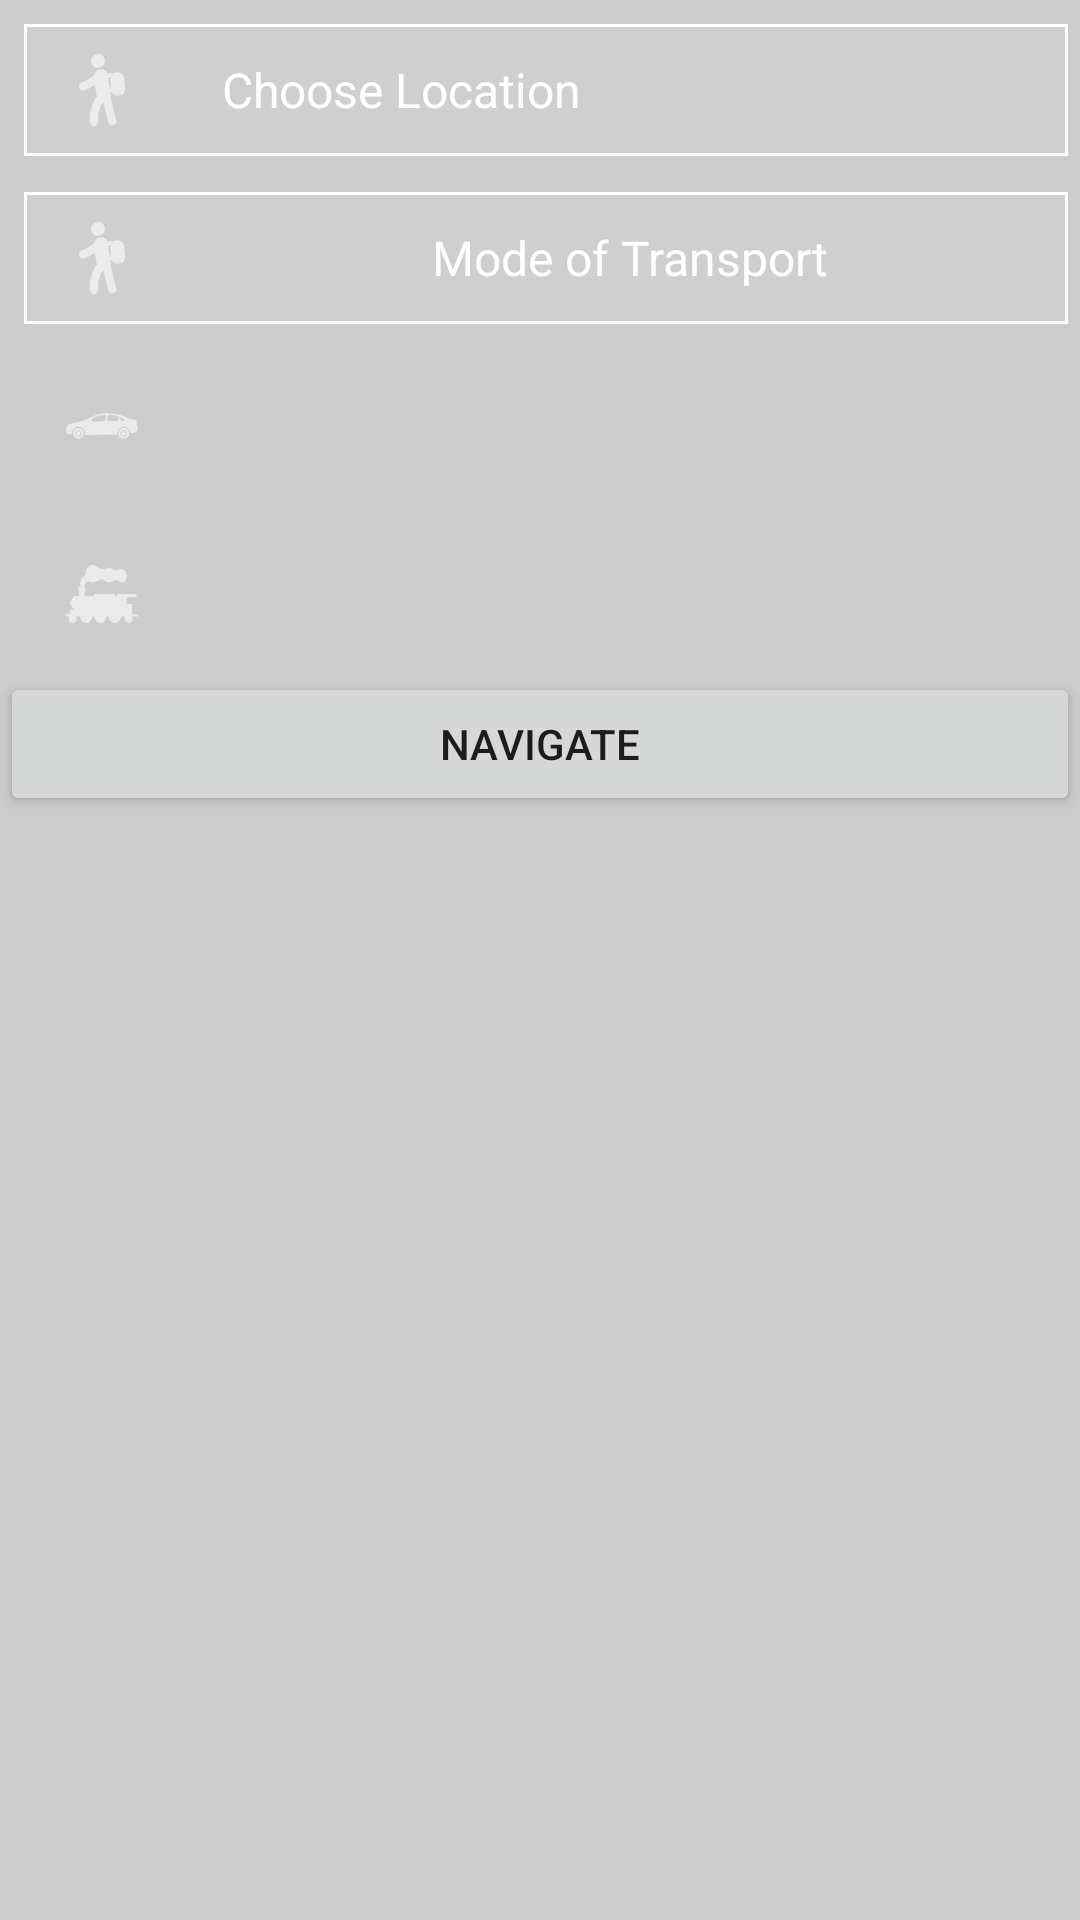

Screen size 1080x1920. Icon name, then its box in pixels as (x1, y1, x2, y2):
car: (66, 414, 138, 438)
tourist: (79, 54, 125, 126), (79, 222, 125, 294)
train: (66, 565, 138, 623)
